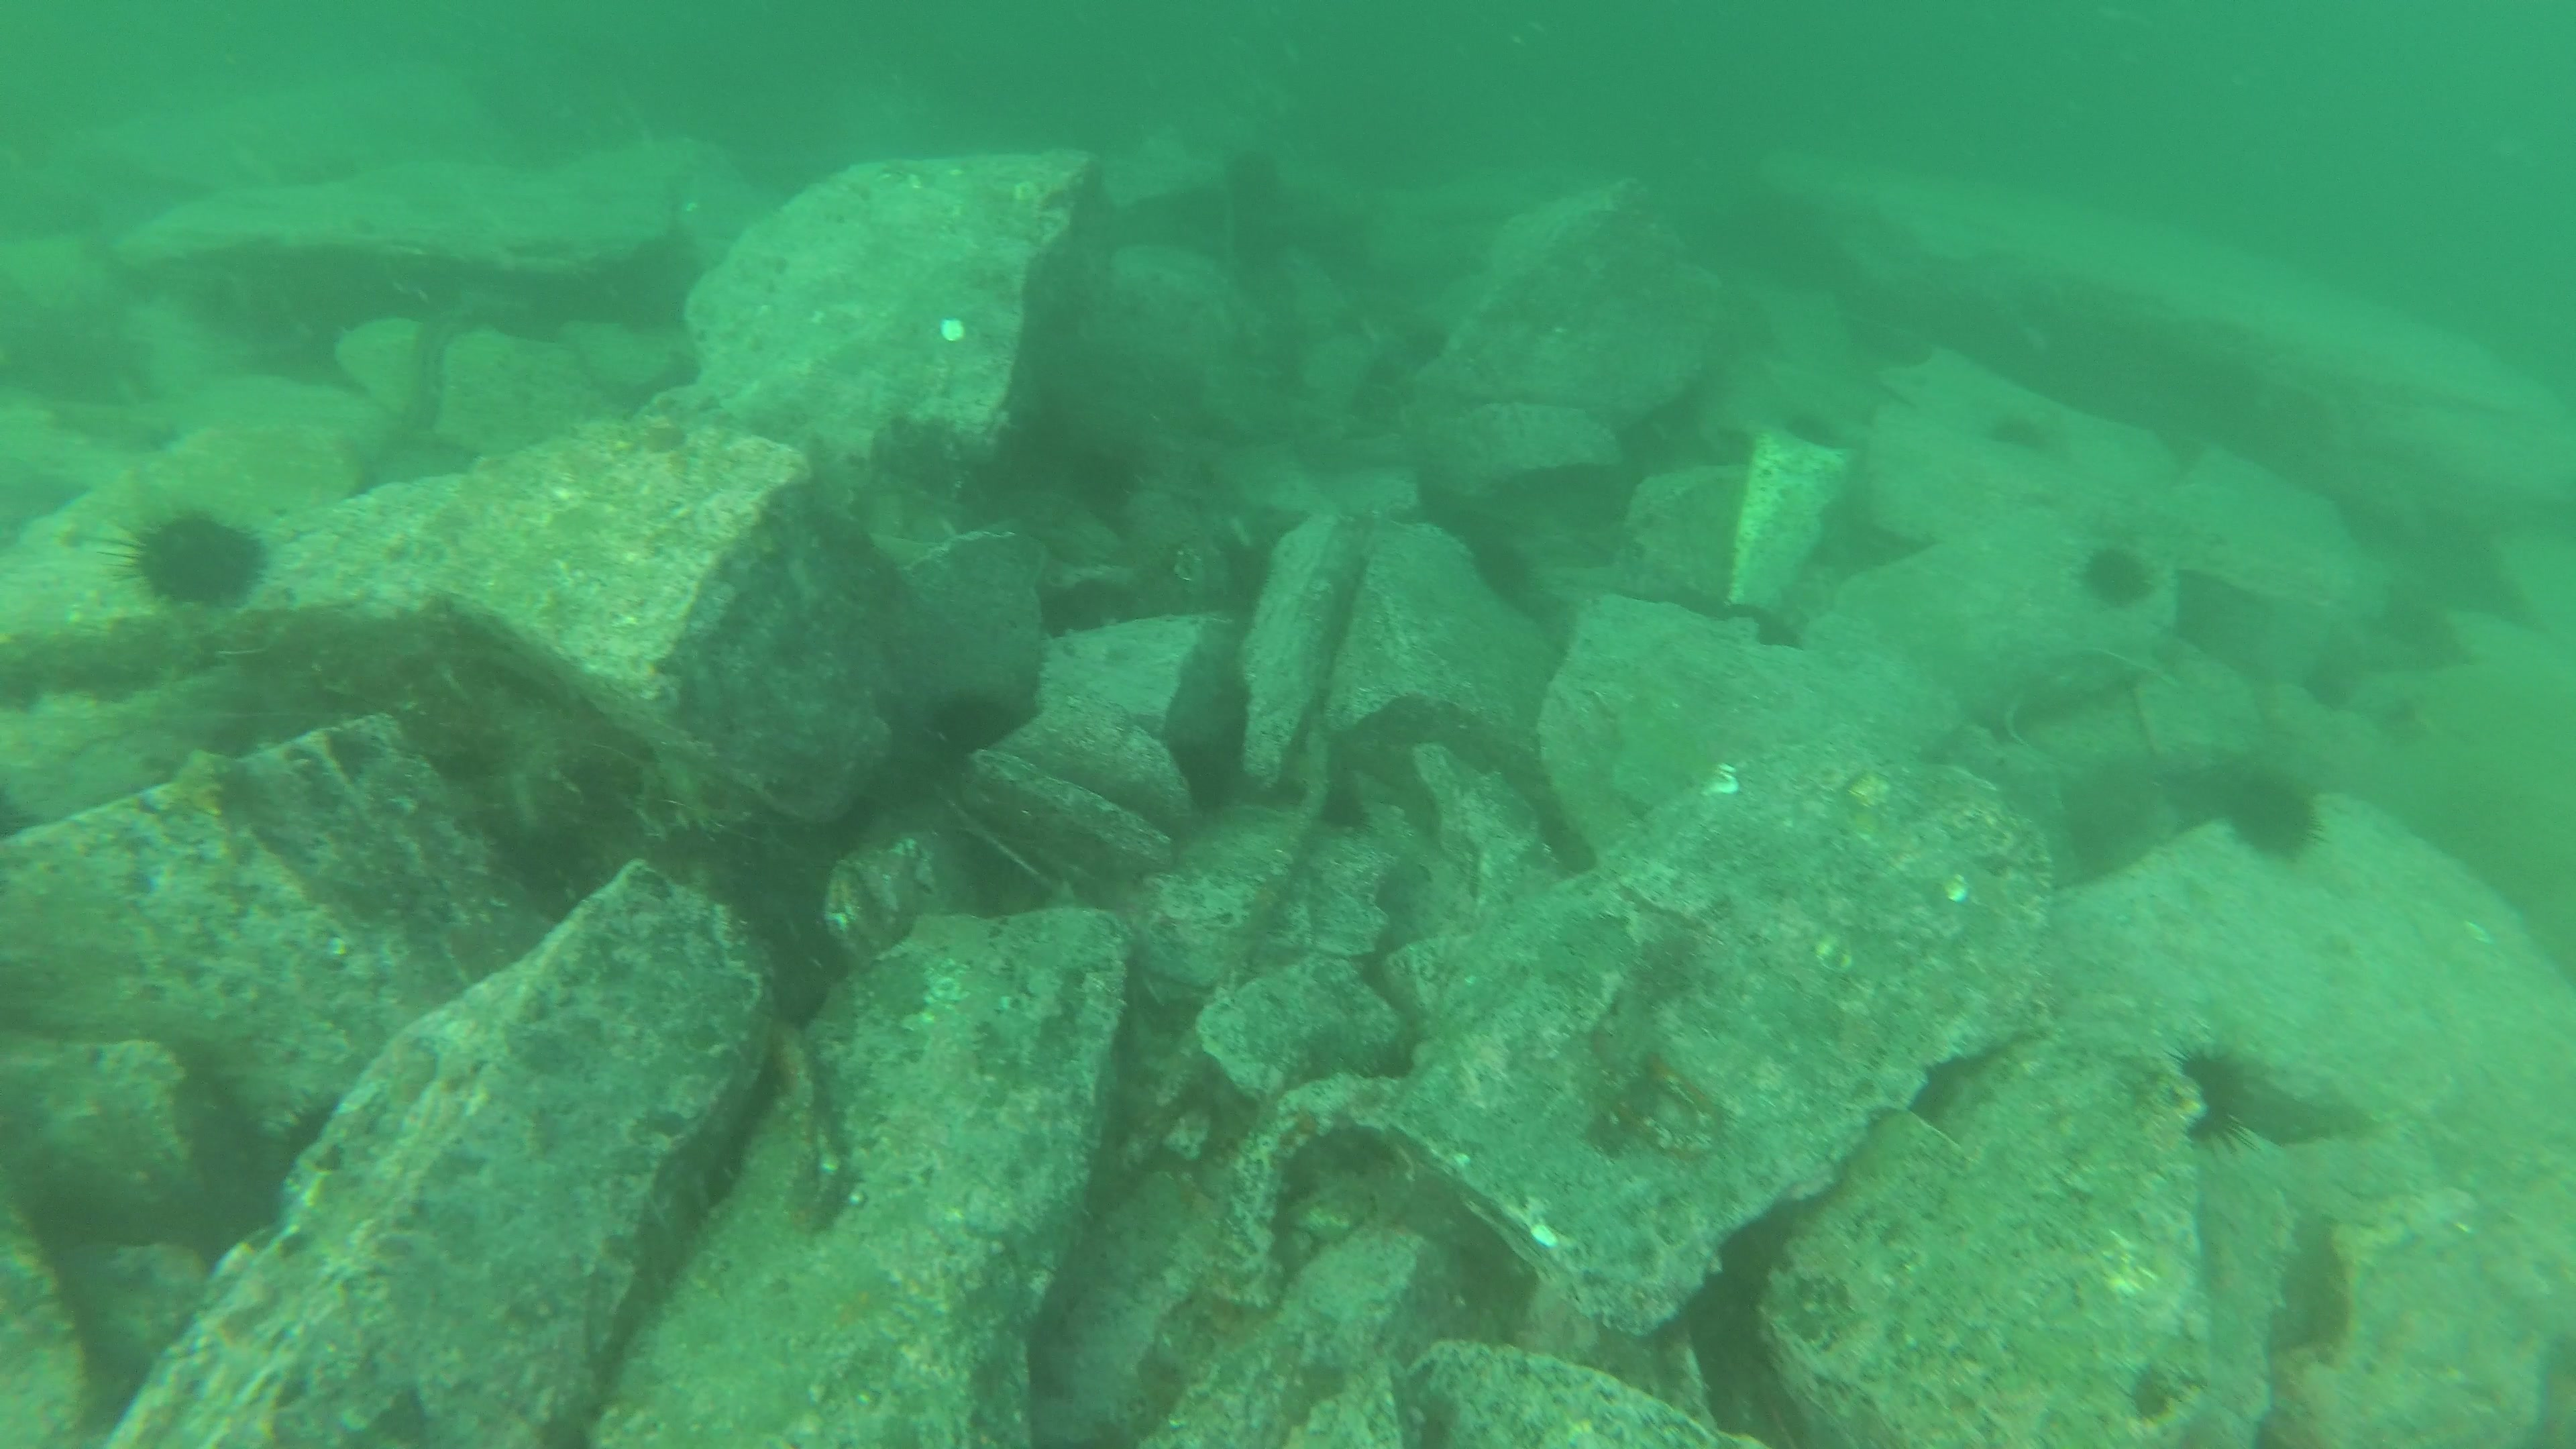echinus: (131, 508, 264, 617), (2167, 1051, 2259, 1146), (2231, 777, 2328, 863), (2084, 543, 2153, 612)
